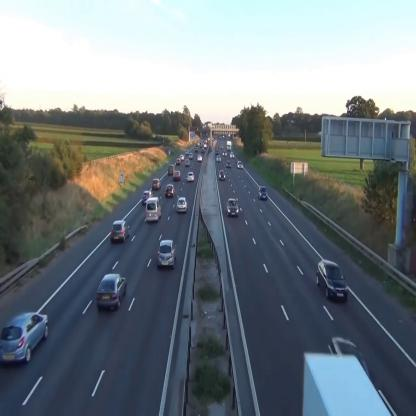car: (1, 313, 50, 364), (316, 256, 349, 303), (96, 273, 127, 311), (157, 240, 177, 267), (111, 220, 130, 243), (226, 198, 238, 216), (176, 196, 188, 212), (258, 185, 268, 200), (164, 185, 175, 197), (142, 192, 152, 204), (152, 178, 161, 189), (187, 172, 194, 182), (219, 170, 226, 179), (168, 164, 174, 174), (173, 172, 180, 180), (216, 154, 222, 162), (184, 159, 190, 166), (237, 160, 242, 168), (197, 156, 202, 161), (227, 161, 231, 167)
lorry: (146, 196, 162, 221)
